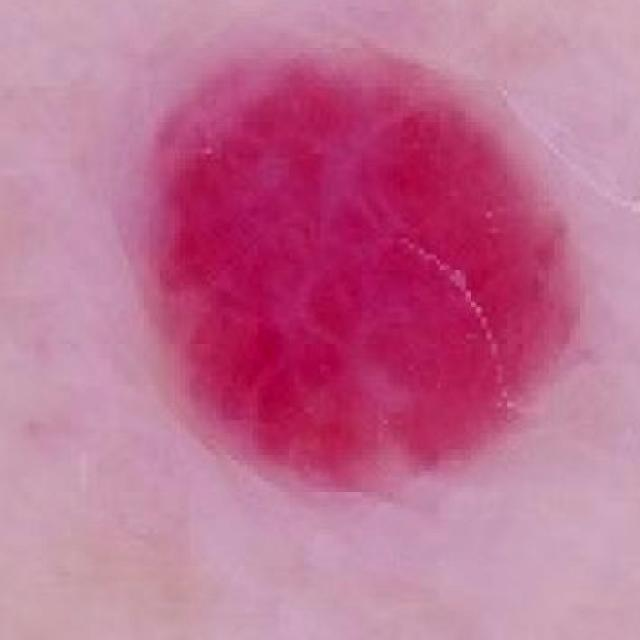VASC: (138, 0, 640, 507)
